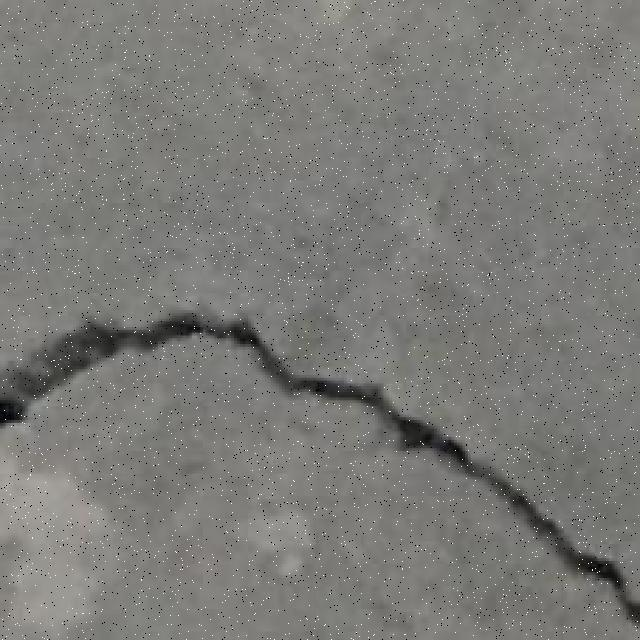Crack: (1, 309, 638, 626)
